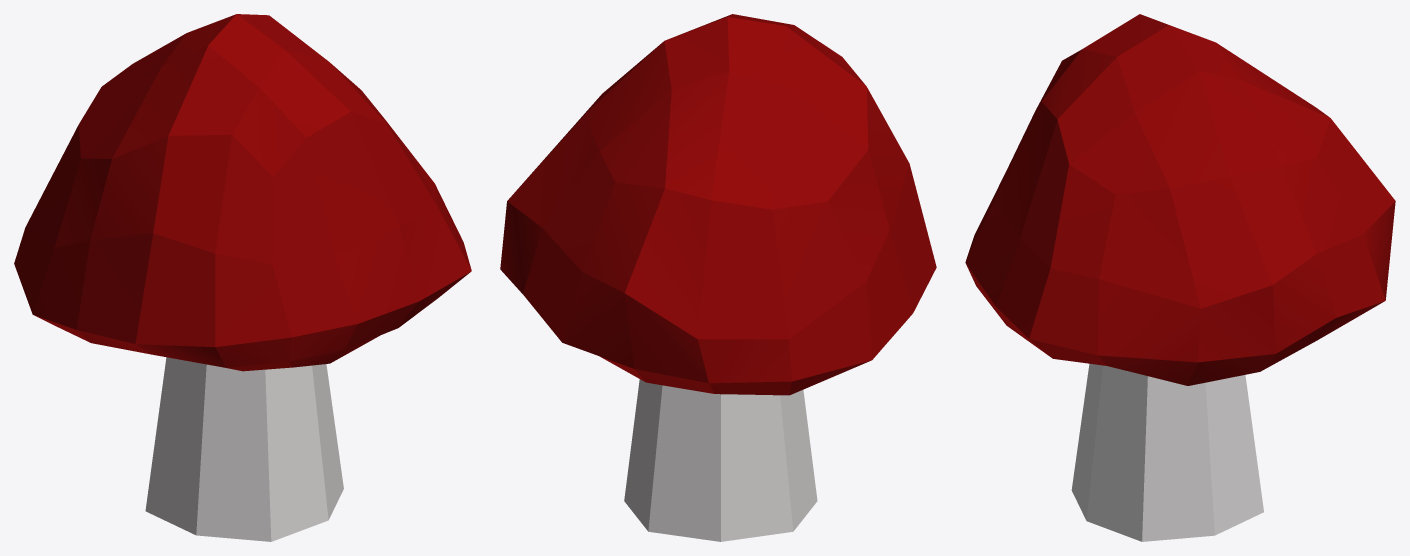
File: pilz_1.fbx
The picture shows the model from 3 angles, left to right: view 1: azimuth 30°, elevation 25°; view 2: azimuth 150°, elevation 25°; view 3: azimuth 270°, elevation 25°; orthographic projection. The views are drawn at different scales.
Visible parts, largest first — view 1: pCube11; view 2: pCube11; view 3: pCube11.
Boxes of the visible parts, x1,y1,x2,y2 form: pCube11: (14, 14, 471, 541); pCube11: (500, 14, 936, 541); pCube11: (965, 14, 1395, 541).
Bounding box in the file's own units: 245 × 309 × 255.
